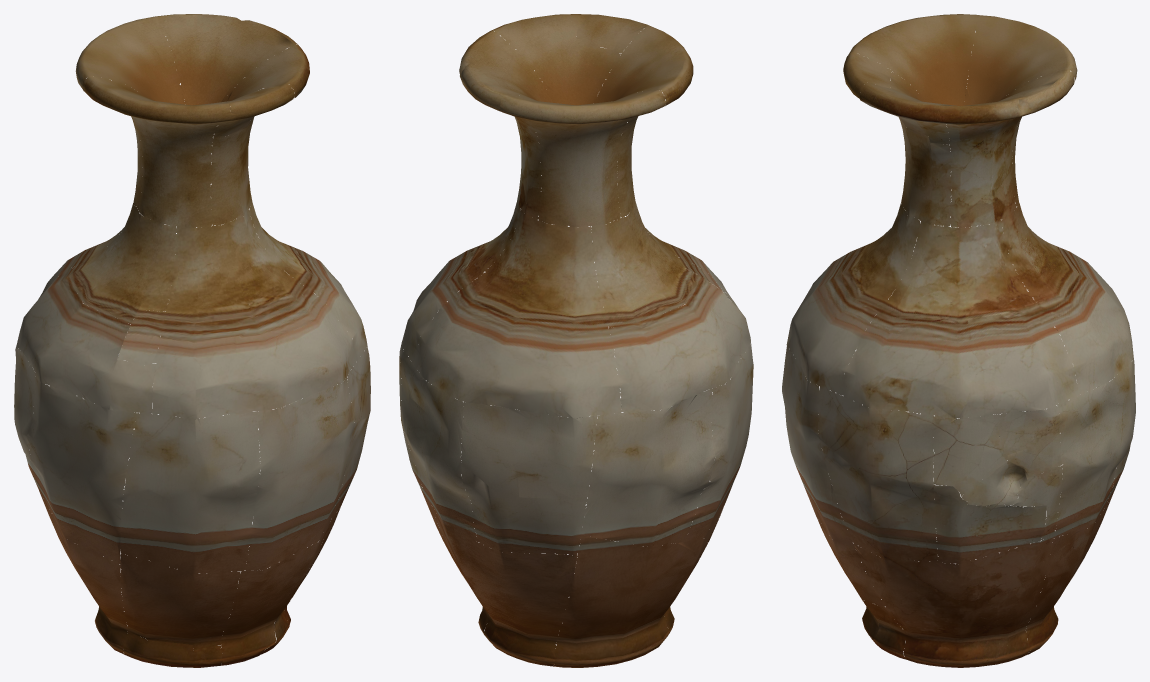
Rendered from Prop_Vase_Ceramic.glb.
3 views of the same model, side by side, from view 1: azimuth 30°, elevation 25°; view 2: azimuth 150°, elevation 25°; view 3: azimuth 270°, elevation 25° (orthographic).
Visible parts, largest first — view 1: tripo_node_6be7a972-71a4-4d69-a87f-4e4df257f281; view 2: tripo_node_6be7a972-71a4-4d69-a87f-4e4df257f281; view 3: tripo_node_6be7a972-71a4-4d69-a87f-4e4df257f281.
Part boxes in pixels (box(x1,y1,x2,y2)): tripo_node_6be7a972-71a4-4d69-a87f-4e4df257f281: box(14, 14, 370, 667); tripo_node_6be7a972-71a4-4d69-a87f-4e4df257f281: box(399, 14, 753, 667); tripo_node_6be7a972-71a4-4d69-a87f-4e4df257f281: box(782, 14, 1135, 667).
Size of the model in its own units: 0.5694 by 1 by 0.5643.
1 material, 1 textured.
